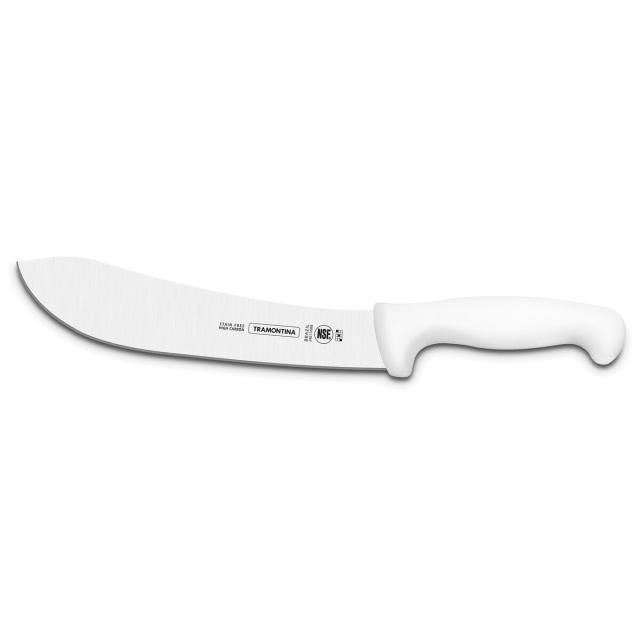Knife: (4, 223, 638, 426)
